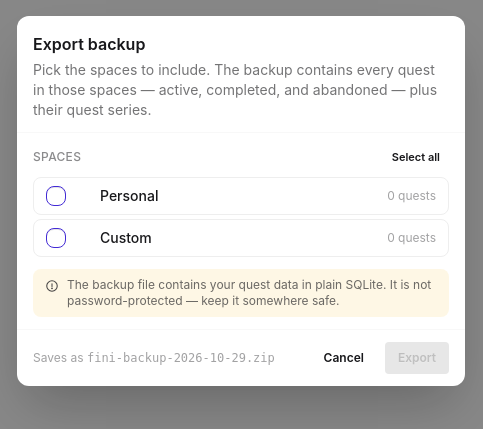
Test: ExportSpacesDialog › enables Export when at least one space is checked
The image size is (483, 429).
Click the checkbox next to "Personal". click: (56, 196)
box: [46,186,66,206]
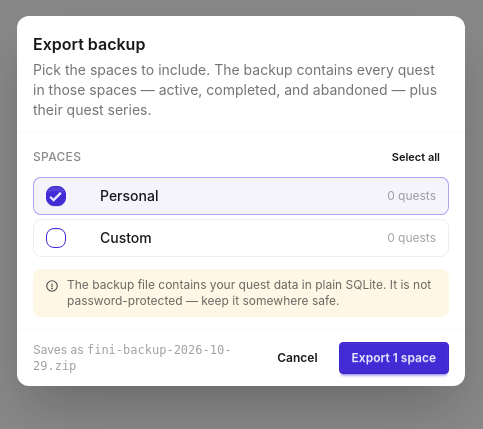
Check: the button "Export 1 space" is enabled, box [339,342,449,374]
